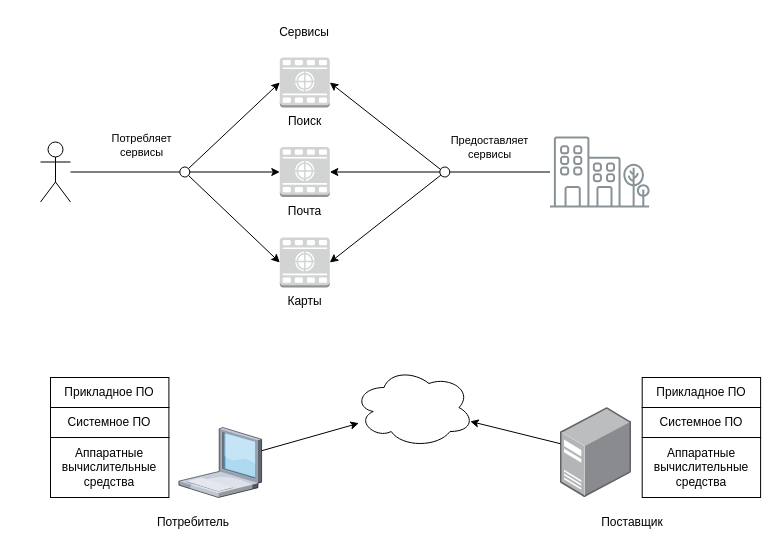
This 779x554 diagram has some shape labels left out. Here are the shapes that lost their labels. From the top down, the centre of each, then its label:
At [55,171]: "Потребитель/ пользователь".
At [599,171]: "Поставщик сервисов (Google)".
At [413,407]: "Интернет".
